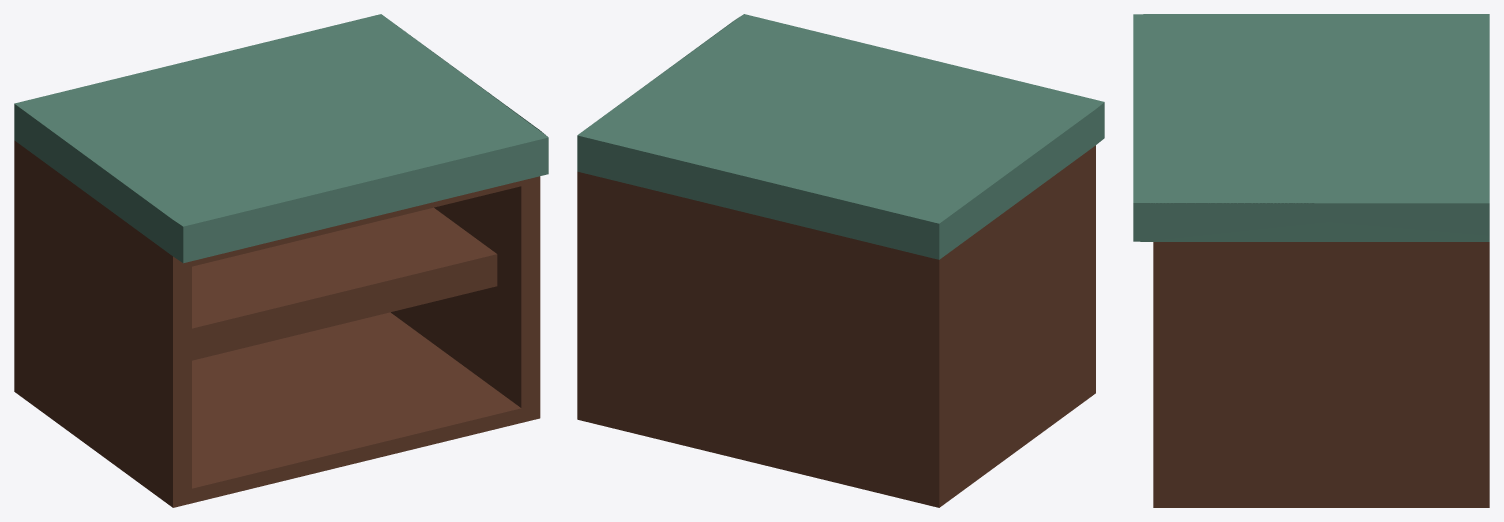
The model's file is Counter_2_Holes.fbx.
3 views of the same model, side by side, from view 1: azimuth 30°, elevation 25°; view 2: azimuth 150°, elevation 25°; view 3: azimuth 270°, elevation 25° (orthographic). The views are drawn at different scales.
Parts seen in each view (by area): view 1: COUNTER 2 HOLES; view 2: COUNTER 2 HOLES; view 3: COUNTER 2 HOLES.
Part boxes in pixels (<box>): COUNTER 2 HOLES: <box>14,14,548,507</box>; COUNTER 2 HOLES: <box>577,14,1104,507</box>; COUNTER 2 HOLES: <box>1133,14,1489,507</box>.
Bounding box in the file's own units: 100 × 75 × 79.47.
